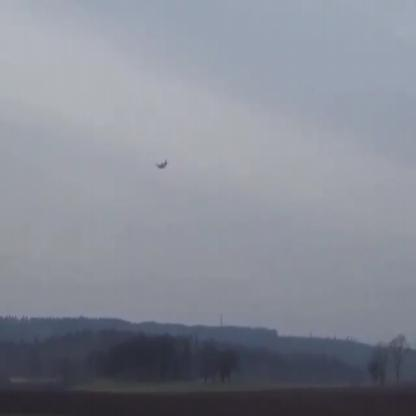CIV_Plane: (152, 154, 172, 172)
